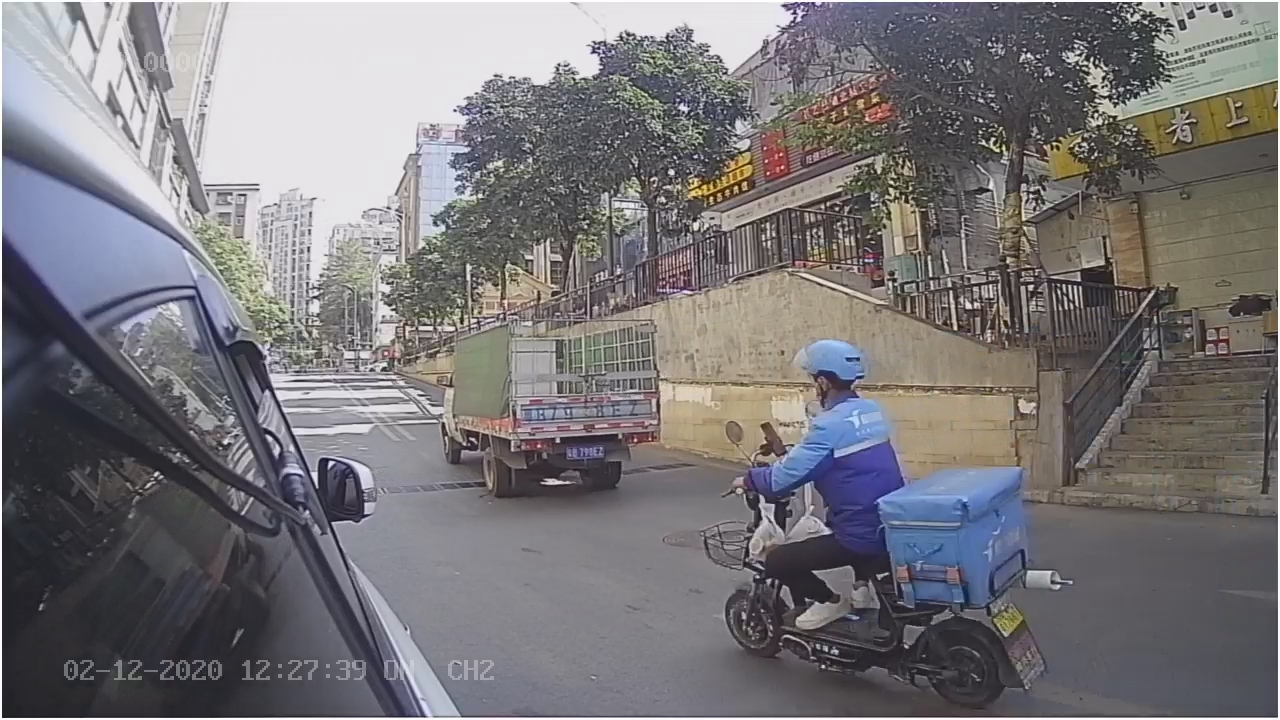person: (733, 329, 901, 491)
